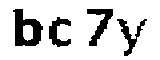7: (81, 4, 114, 52)
b: (7, 7, 48, 54)
c: (47, 15, 74, 48)
y: (115, 15, 152, 60)
